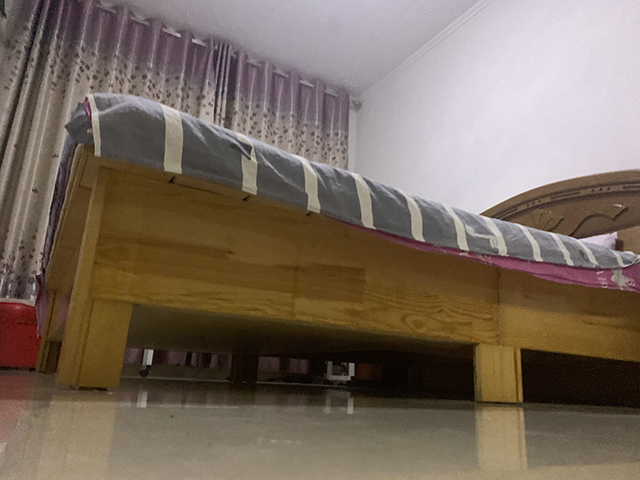bed: (33, 90, 640, 405)
stool: (1, 299, 39, 372)
